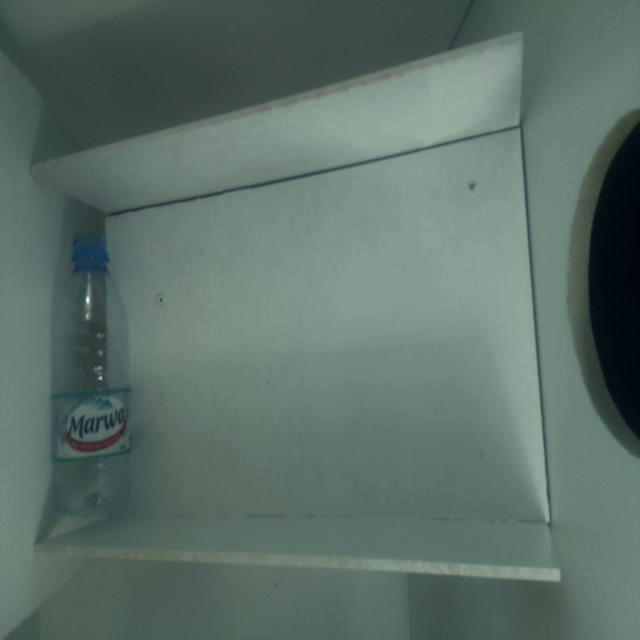bottle: (51, 233, 132, 520)
